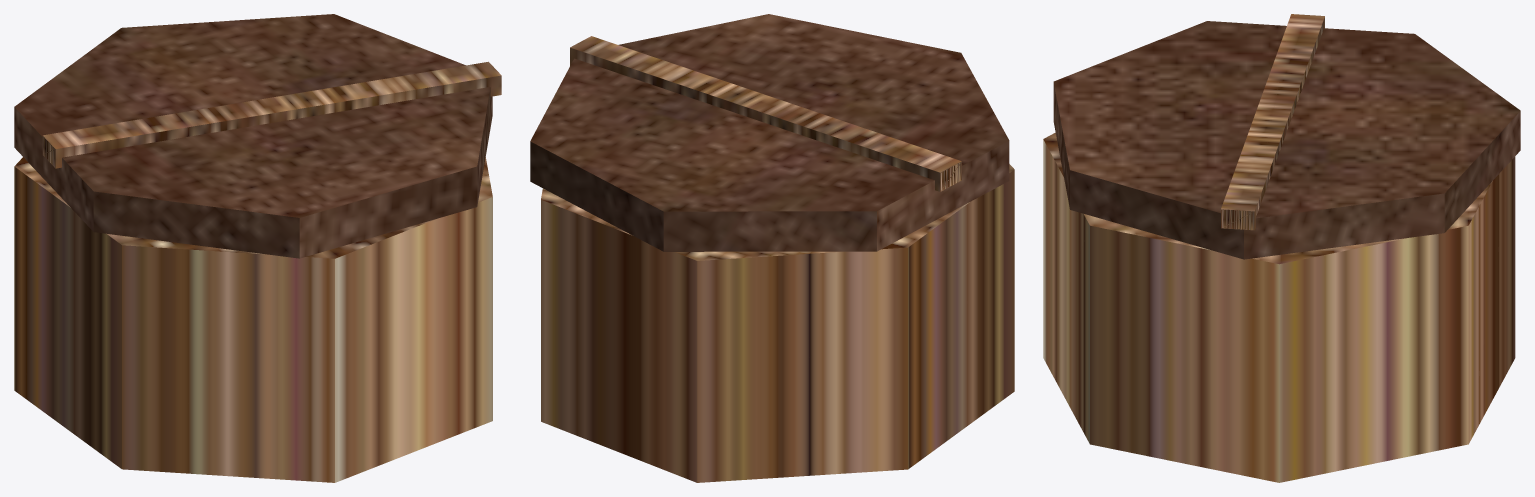
3 renders of one model, left to right at view 1: azimuth 30°, elevation 25°; view 2: azimuth 150°, elevation 25°; view 3: azimuth 270°, elevation 25°, orthographic. The views are drawn at different scales.
Parts seen in each view (by area): view 1: Cylinder001, Object001, Box001; view 2: Cylinder001, Object001, Box001; view 3: Cylinder001, Object001, Box001.
Part boxes in pixels (box(x1,y1,x2,y2)): Cylinder001: box(14, 157, 492, 482); Object001: box(14, 14, 492, 258); Box001: box(42, 61, 501, 168); Cylinder001: box(541, 164, 1014, 482); Object001: box(530, 14, 1009, 251); Box001: box(570, 36, 961, 191); Cylinder001: box(1043, 132, 1515, 482); Object001: box(1053, 21, 1520, 259); Box001: box(1221, 14, 1324, 230).
Size of the model in its own units: 46.08 by 29.13 by 46.48.
Materials: 2 (2 with a texture image).
